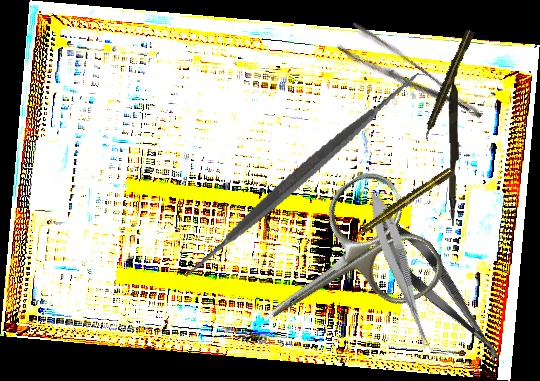Dressing Forceps: (335, 19, 485, 141)
Handpiece: (349, 165, 456, 243), (419, 28, 476, 142)
Iris Scissors: (226, 162, 453, 376)
Micro Scissor: (366, 207, 514, 374), (362, 189, 442, 354)
Pusher: (447, 59, 461, 226)
Spatula Surgical: (171, 40, 434, 310)
